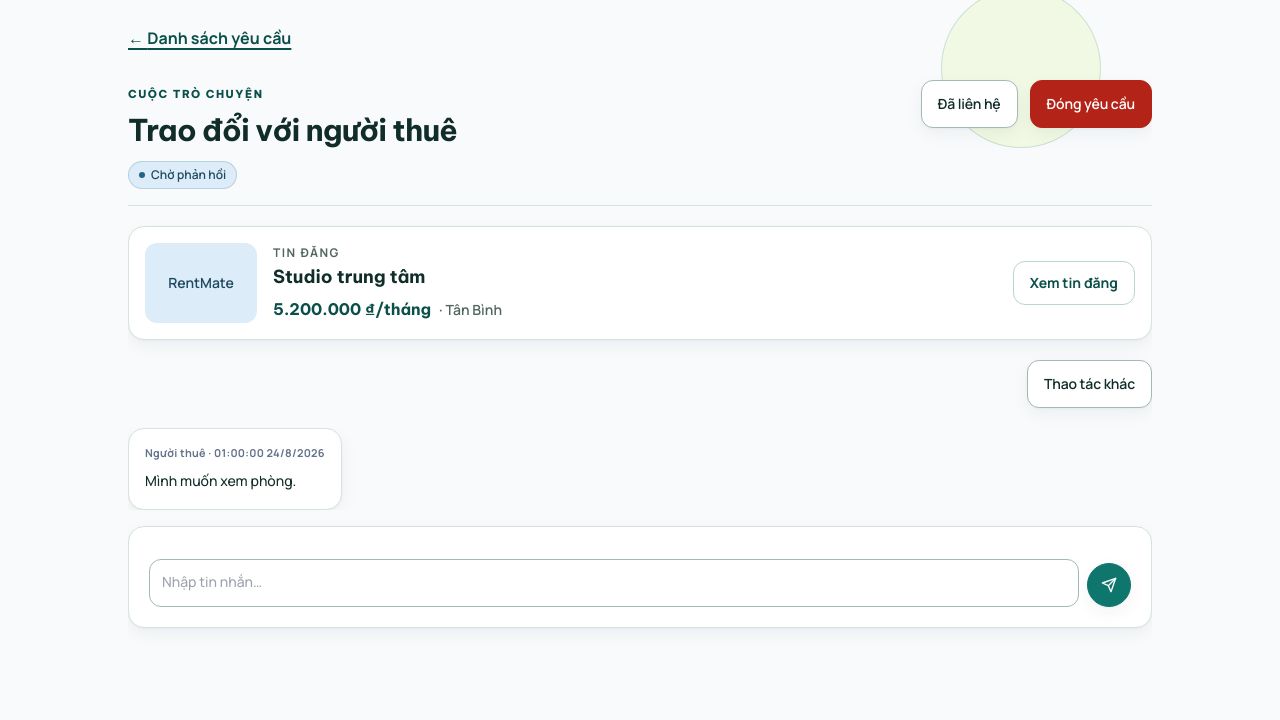
Test: InquiryDetailPage realtime › deduplicates a sent message when the same realtime event arrives
Expected: the text "Mình muốn xem phòng." is shown, left=145, top=471, right=296, bottom=490
Step 1. Type "Được, hẹn bạn lúc 18 giờ." into the text box labelled "Nhập tin nhắn" → (614, 583), box left=149, top=559, right=1079, bottom=607
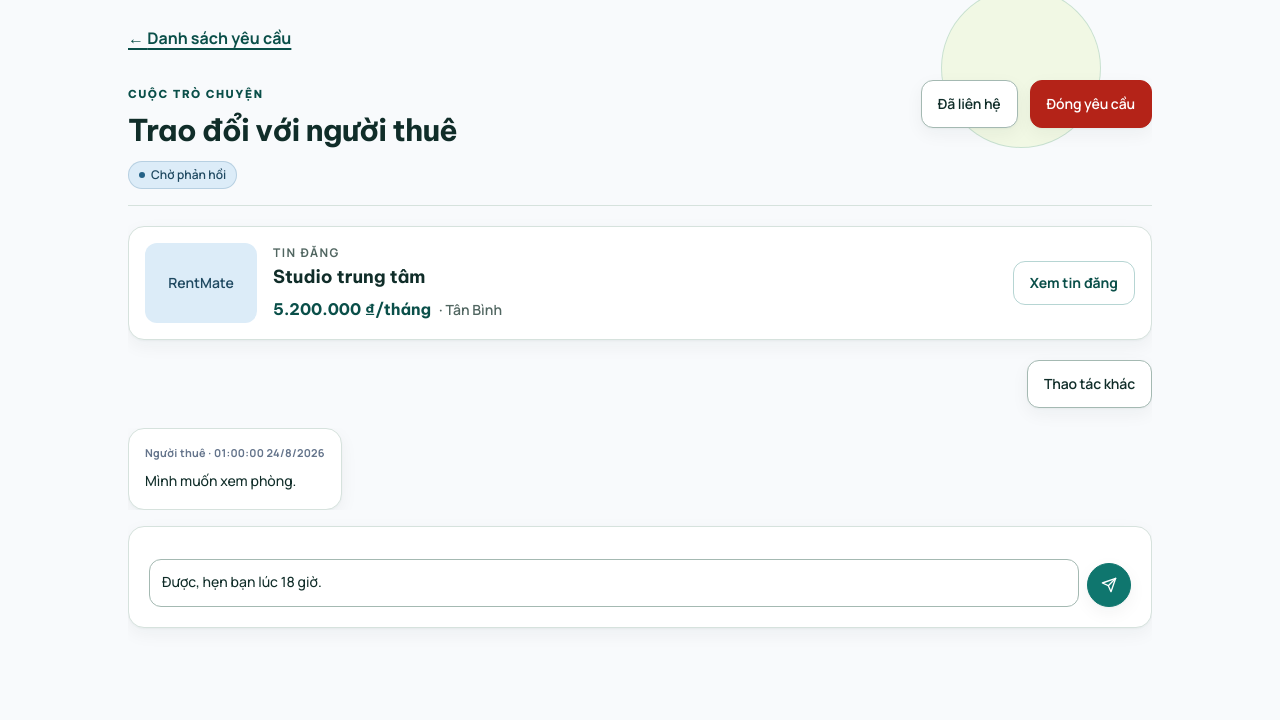
Step 2. Click the button named "Gửi tin nhắn" → (1109, 585), box left=1087, top=563, right=1131, bottom=607
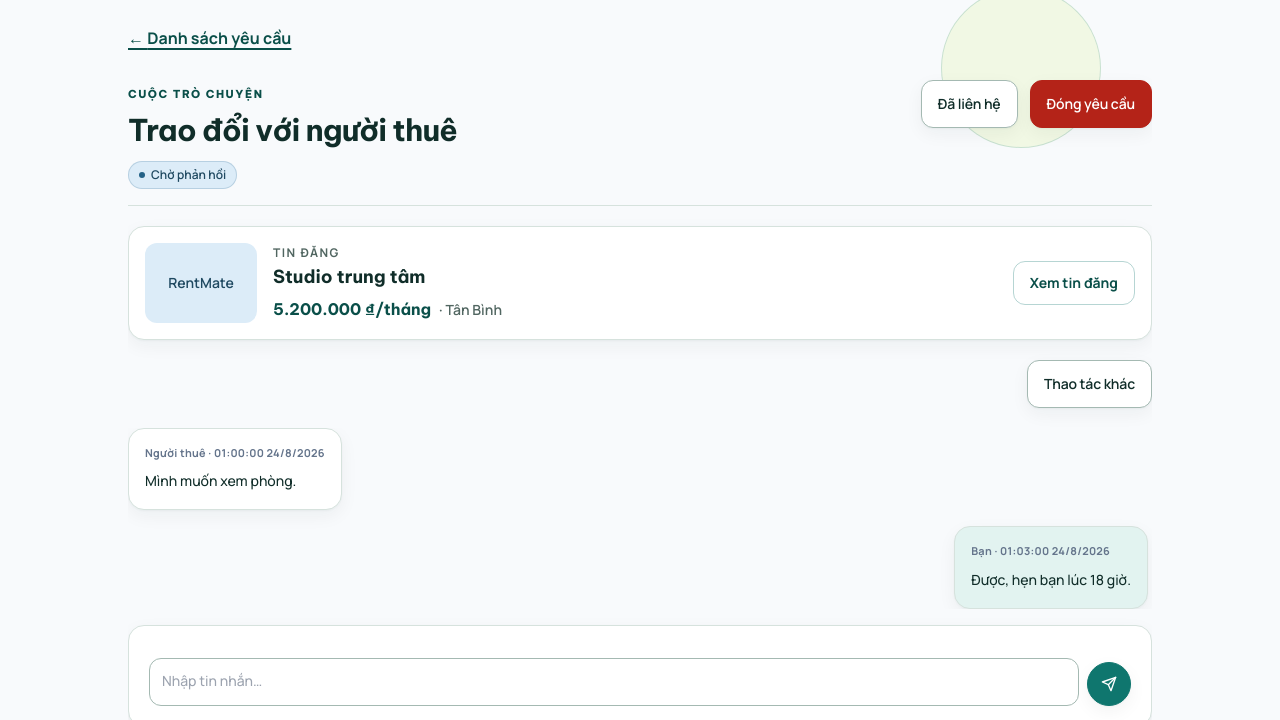
Expected: the text box labelled "Nhập tin nhắn" is empty, left=149, top=658, right=1079, bottom=706
Expected: the text "Được, hẹn bạn lúc 18 giờ." is shown once, left=971, top=568, right=1131, bottom=592
